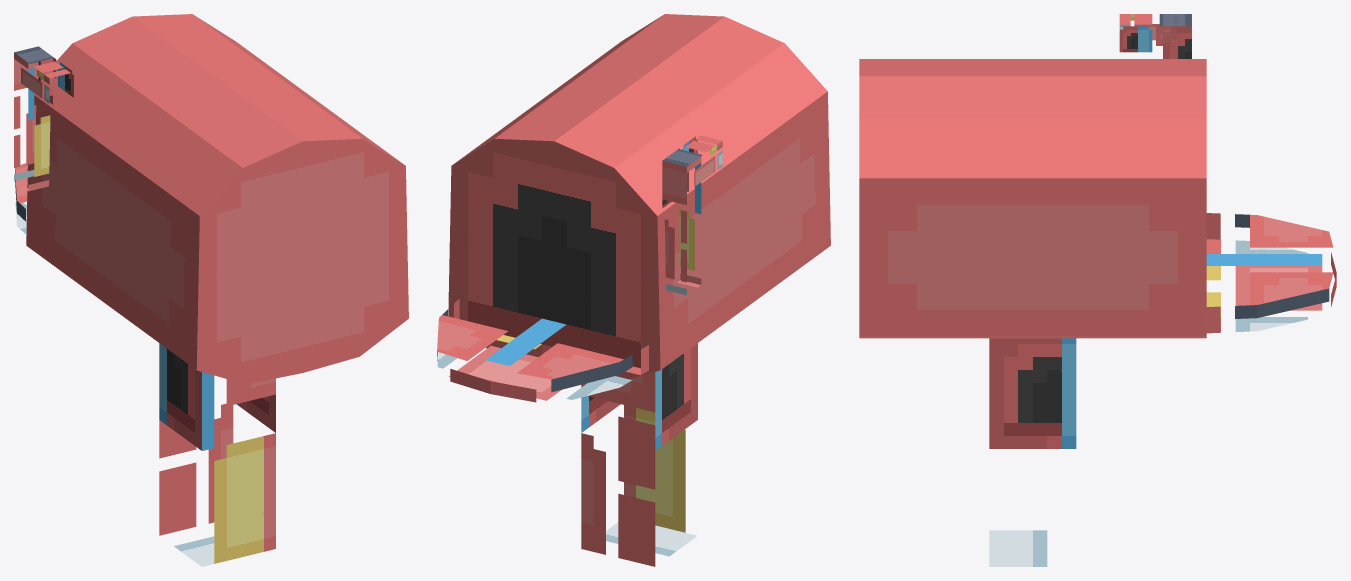
3 renders of one model, left to right at view 1: azimuth 30°, elevation 25°; view 2: azimuth 150°, elevation 25°; view 3: azimuth 270°, elevation 25°, orthographic.
Visible parts, largest first — view 1: cuboid, cuboid_1, cuboid_3, cuboid_4, cuboid_2; view 2: cuboid, cuboid_1, cuboid_2, cuboid_3, cuboid_4; view 3: cuboid, cuboid_1, cuboid_2, cuboid_4, cuboid_3.
Part boxes in pixels (x1=…): cuboid: x1=26, y1=14, x2=408, y2=384; cuboid_1: x1=159, y1=343, x2=275, y2=566; cuboid_3: x1=14, y1=46, x2=52, y2=191; cuboid_4: x1=21, y1=52, x2=73, y2=103; cuboid_2: x1=15, y1=163, x2=27, y2=234; cuboid: x1=448, y1=14, x2=830, y2=379; cuboid_1: x1=581, y1=343, x2=697, y2=566; cuboid_2: x1=437, y1=299, x2=648, y2=402; cuboid_3: x1=662, y1=150, x2=701, y2=295; cuboid_4: x1=671, y1=135, x2=722, y2=186; cuboid: x1=859, y1=59, x2=1206, y2=338; cuboid_1: x1=989, y1=338, x2=1076, y2=566; cuboid_2: x1=1206, y1=213, x2=1336, y2=333; cuboid_4: x1=1119, y1=14, x2=1177, y2=52; cuboid_3: x1=1163, y1=14, x2=1191, y2=58.
Bounding box in the file's own units: 58.83 × 112 × 103.
5 materials, 5 textured.
